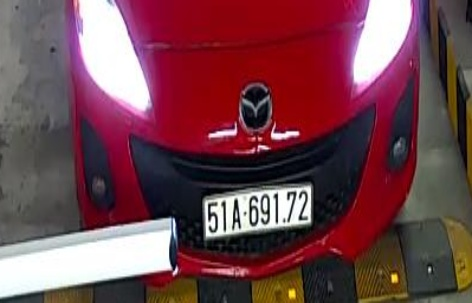plate: (192, 178, 332, 241)
